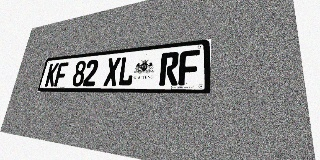2: (82, 59, 99, 86)
8: (71, 60, 87, 86)
F: (178, 50, 200, 85), (54, 62, 69, 87)
K: (44, 63, 59, 87)
L: (117, 56, 136, 86)
R: (159, 51, 179, 86)
X: (103, 57, 121, 86)
